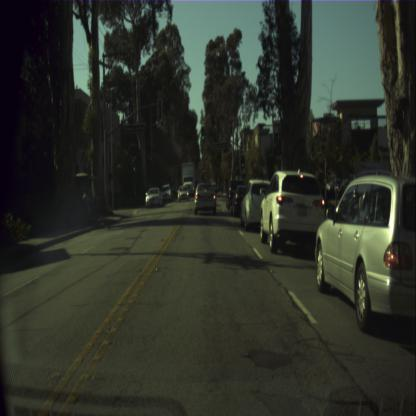Green: (132, 160, 136, 170), (241, 155, 244, 167), (202, 128, 204, 139)
